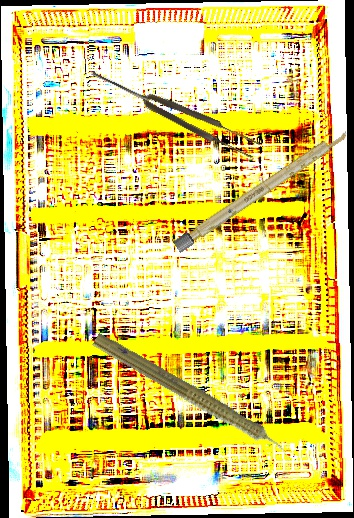Handpiece: (87, 328, 300, 469)
Scalpel Handle: (172, 126, 351, 254)
Tissue Forceps: (86, 61, 262, 162)
